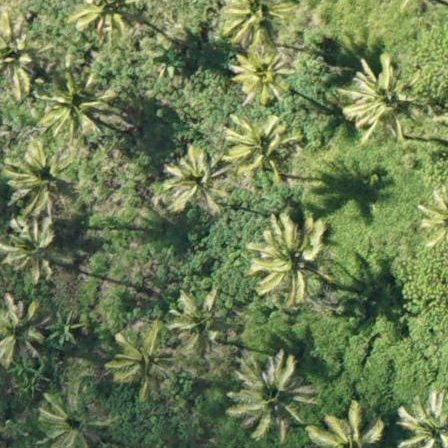palm_tree: (343, 54, 420, 137), (231, 356, 307, 434), (4, 137, 78, 216), (251, 217, 326, 294), (109, 328, 179, 392), (42, 69, 112, 133), (164, 293, 230, 357), (226, 118, 293, 179), (165, 151, 227, 213), (1, 215, 58, 282), (40, 389, 104, 448), (1, 295, 45, 373), (228, 1, 298, 43), (232, 51, 289, 101), (396, 395, 448, 448)
